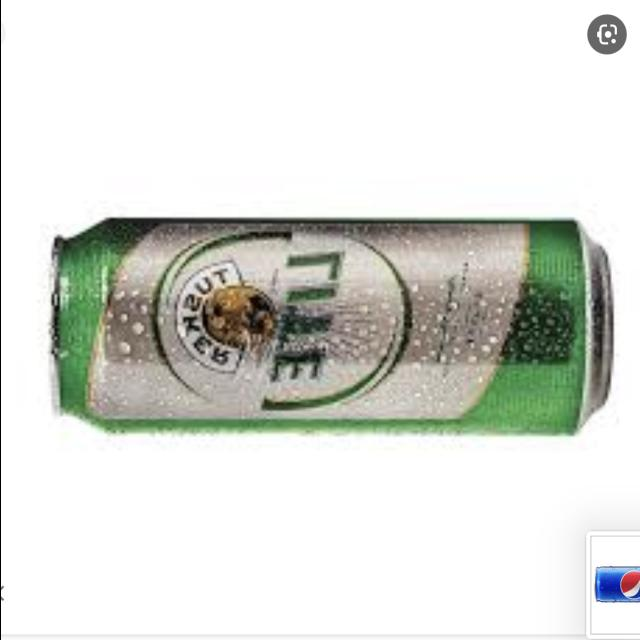can: (19, 185, 640, 467)
